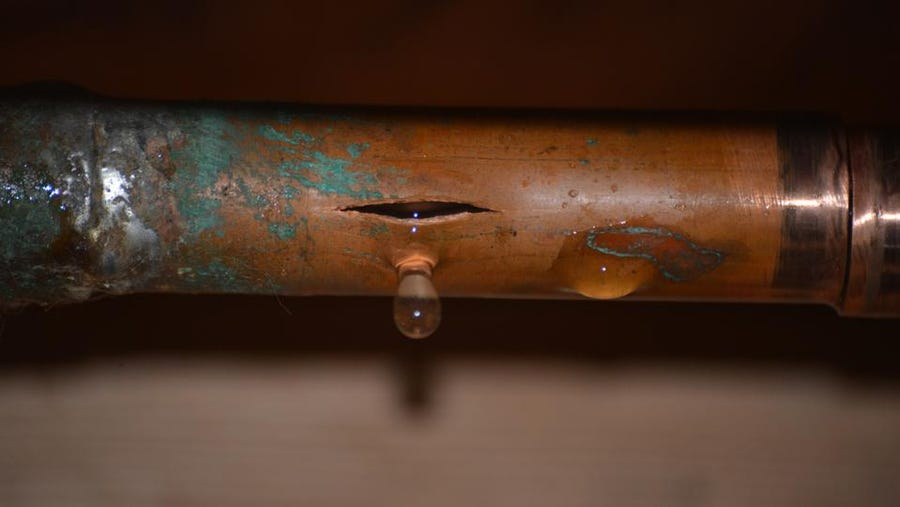crack: (328, 194, 511, 229)
